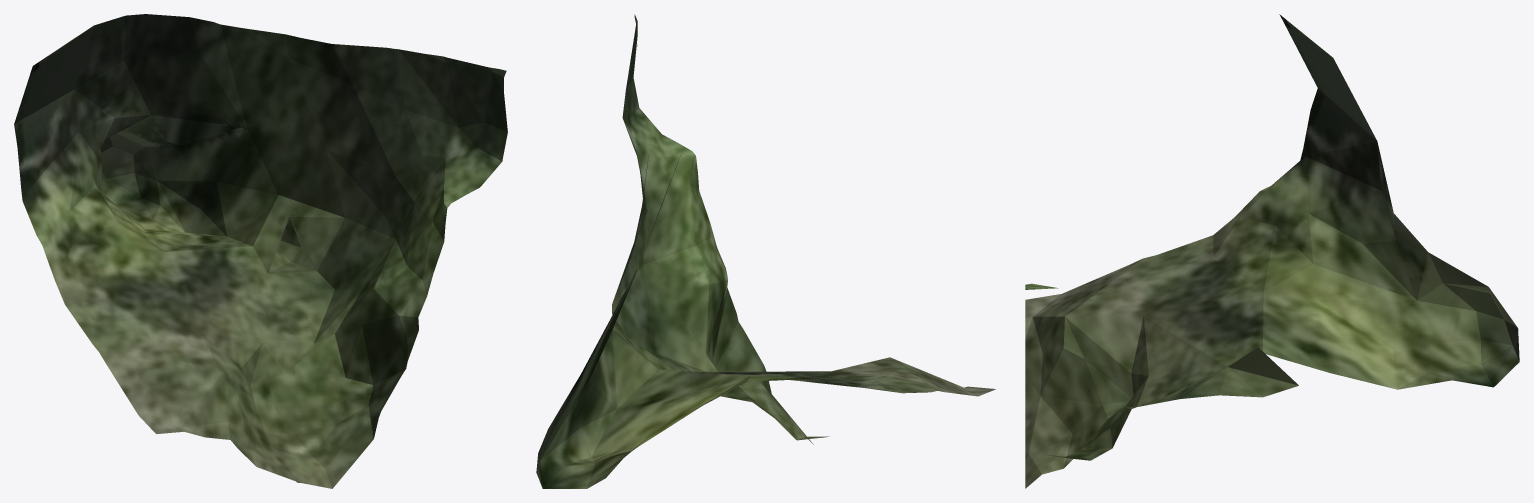
3 views of the same model, side by side, from view 1: azimuth 30°, elevation 25°; view 2: azimuth 150°, elevation 25°; view 3: azimuth 270°, elevation 25° (orthographic). The views are drawn at different scales.
Size of the model in its own units: 2.87 by 2.92 by 3.39.
Materials: 1 (1 with a texture image).
